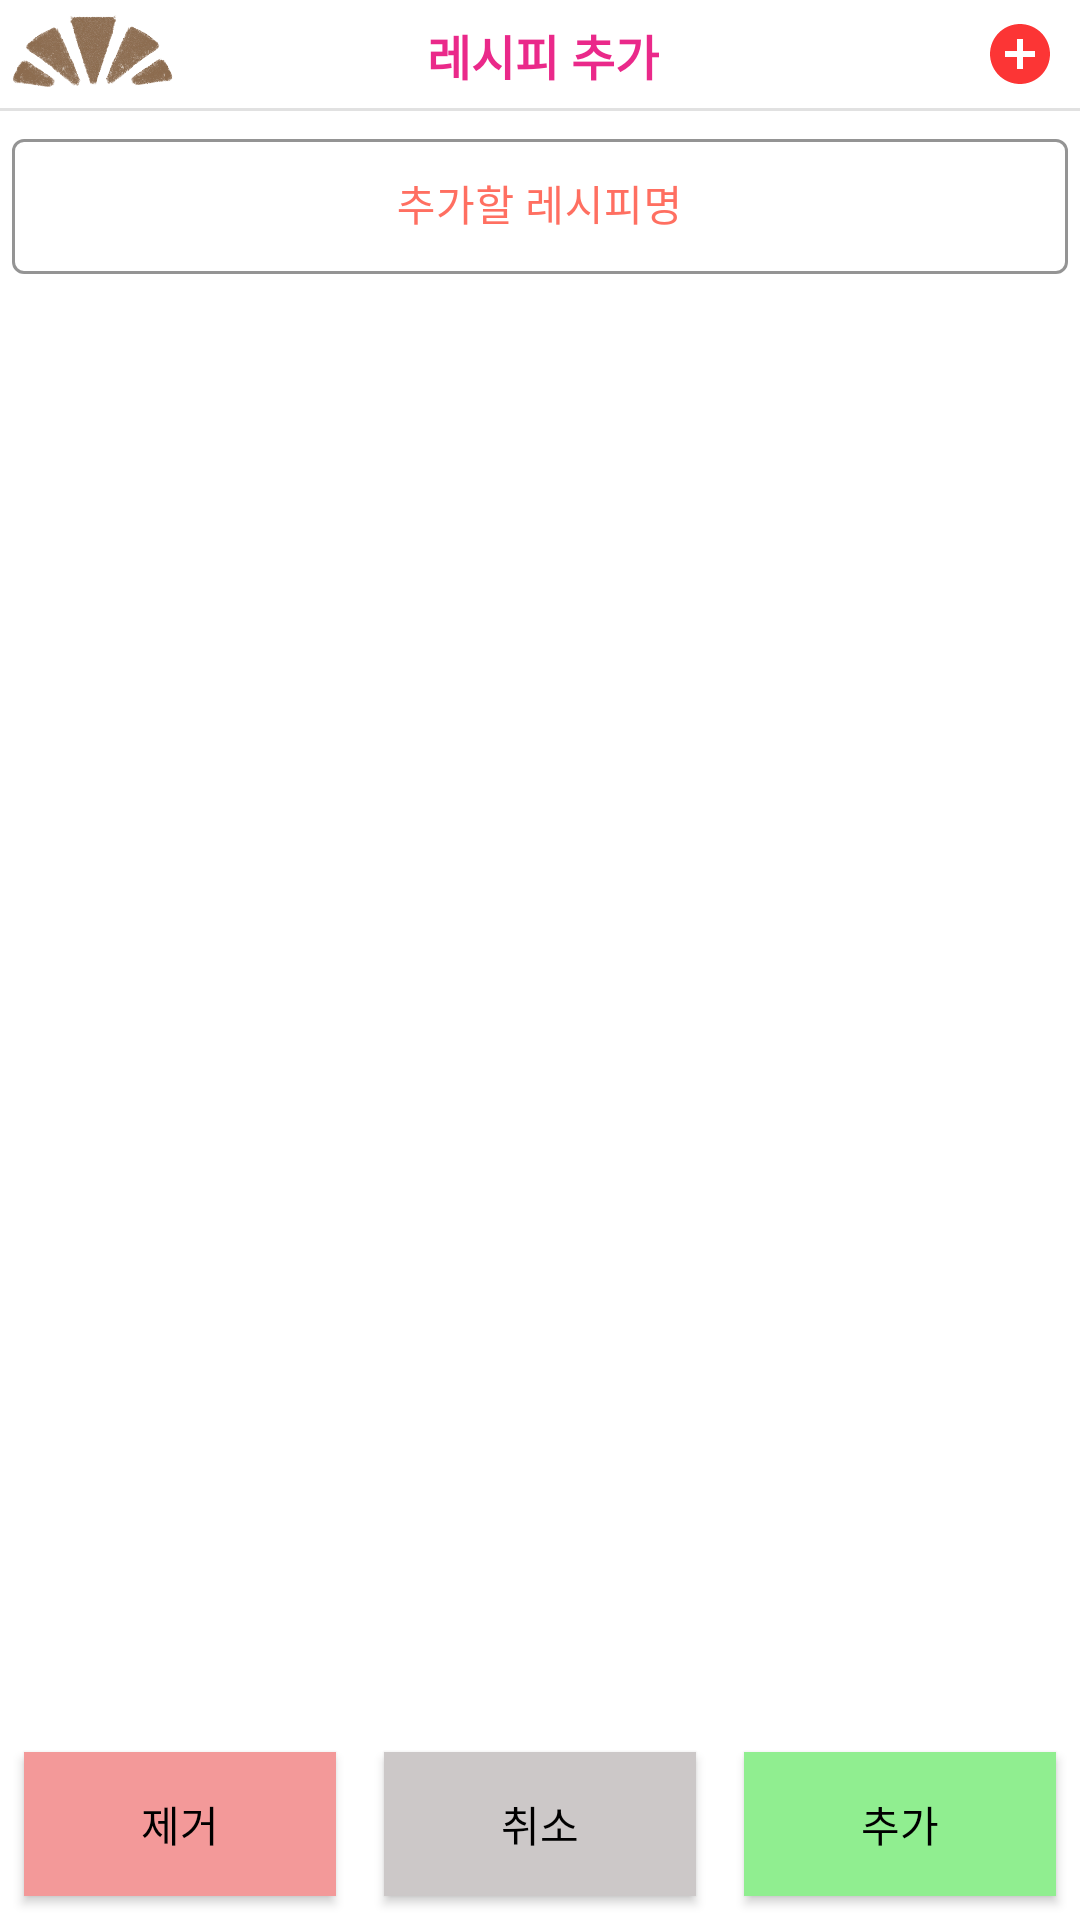

Icons on this 1080px x 1920px Android screen, each with the point to tap as point (x, y):
add circle: point (1020, 54)
